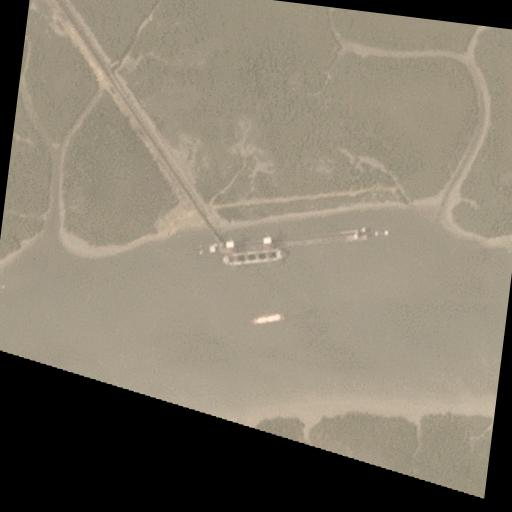ship: (221, 240, 291, 272), (248, 310, 284, 330)
